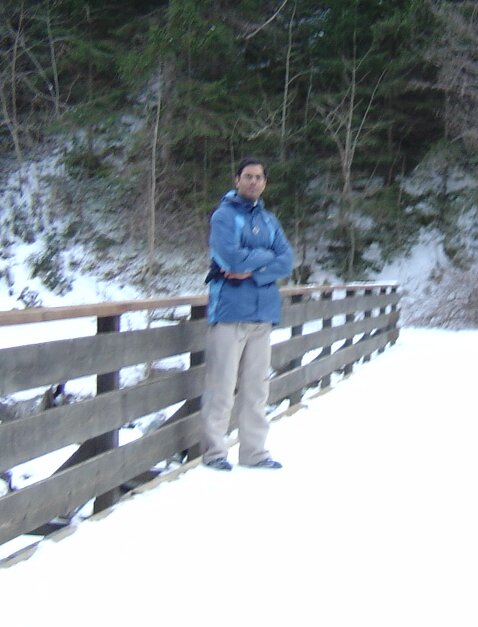person: (193, 157, 298, 480)
